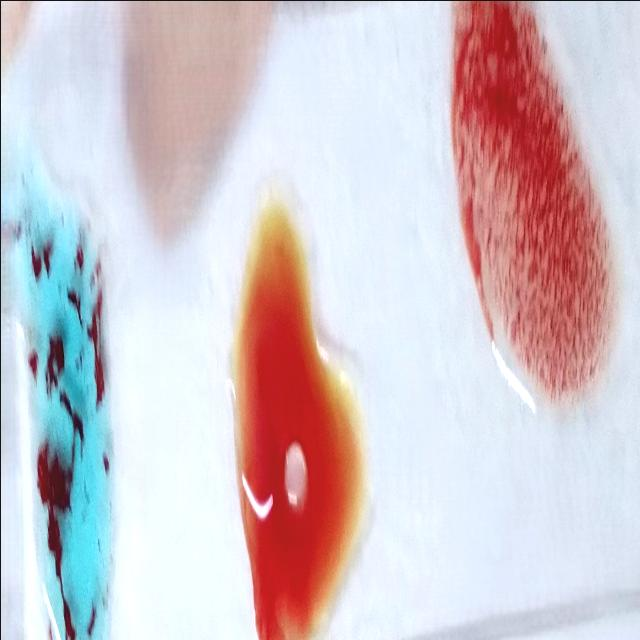A: (8, 153, 118, 632)
D: (449, 0, 623, 406)
